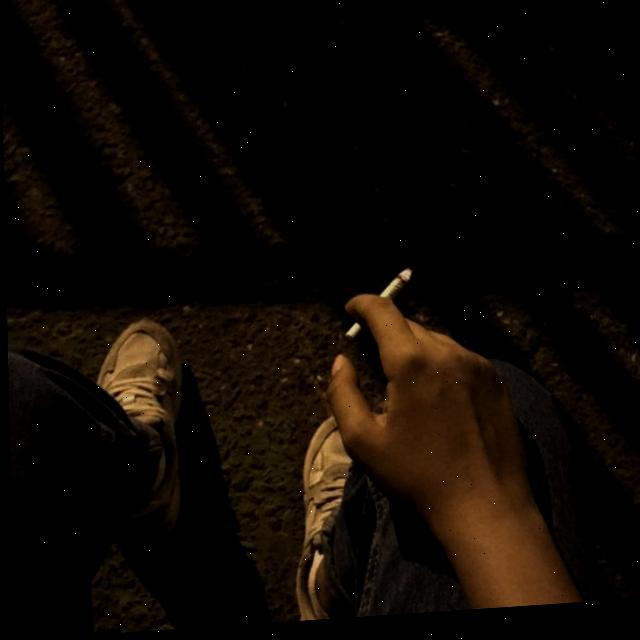cigarette: (344, 275, 411, 344)
